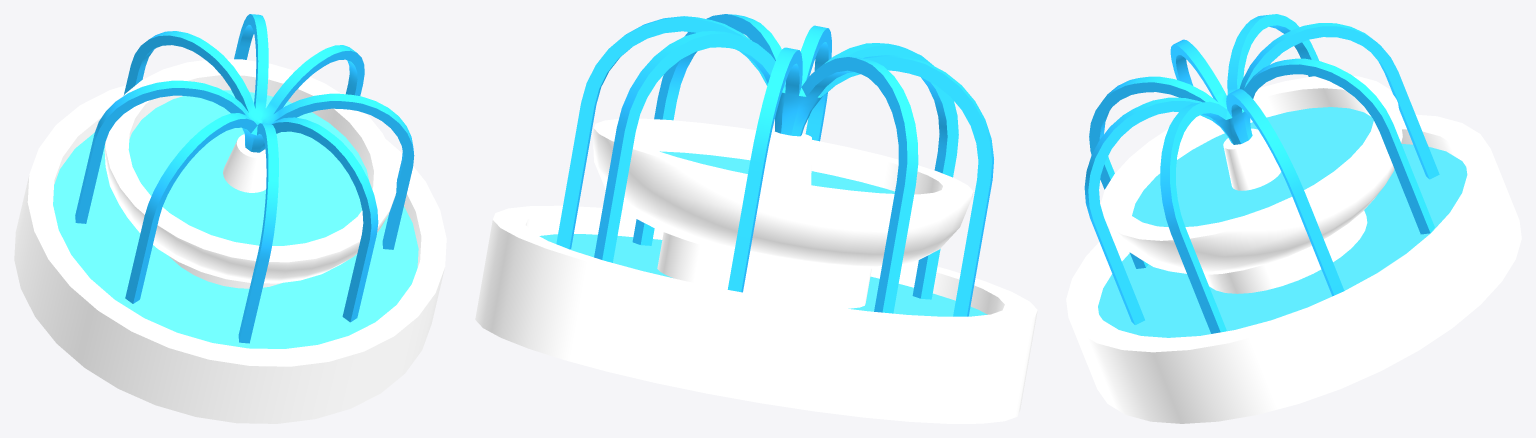
The model's file is fountain.gltf.
3 views of the same model, side by side, from view 1: azimuth 30°, elevation 25°; view 2: azimuth 150°, elevation 25°; view 3: azimuth 270°, elevation 25° (orthographic). The views are drawn at different scales.
Parts seen in each view (by area): view 1: Circle.2358; view 2: Circle.2358; view 3: Circle.2358.
Boxes of the visible parts, x1,y1,x2,y2 form: Circle.2358: (14,14,446,423); Circle.2358: (475,14,1037,423); Circle.2358: (1066,14,1521,423).
Size of the model in its own units: 2.16 by 1.75 by 2.17.
1 material, 1 textured.
